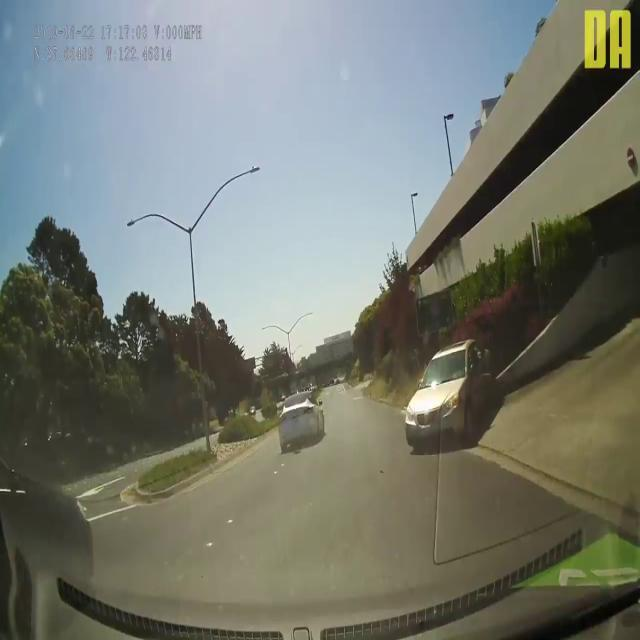normal: (243, 372, 329, 477)
single accident: (389, 316, 534, 471)
